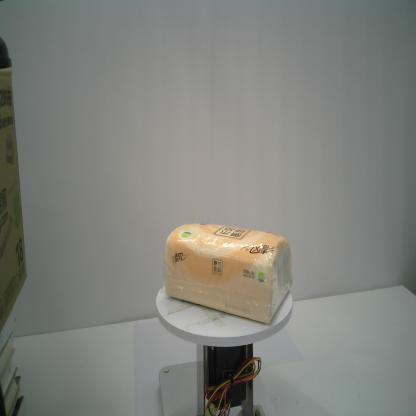Tissue: (162, 221, 294, 325)
